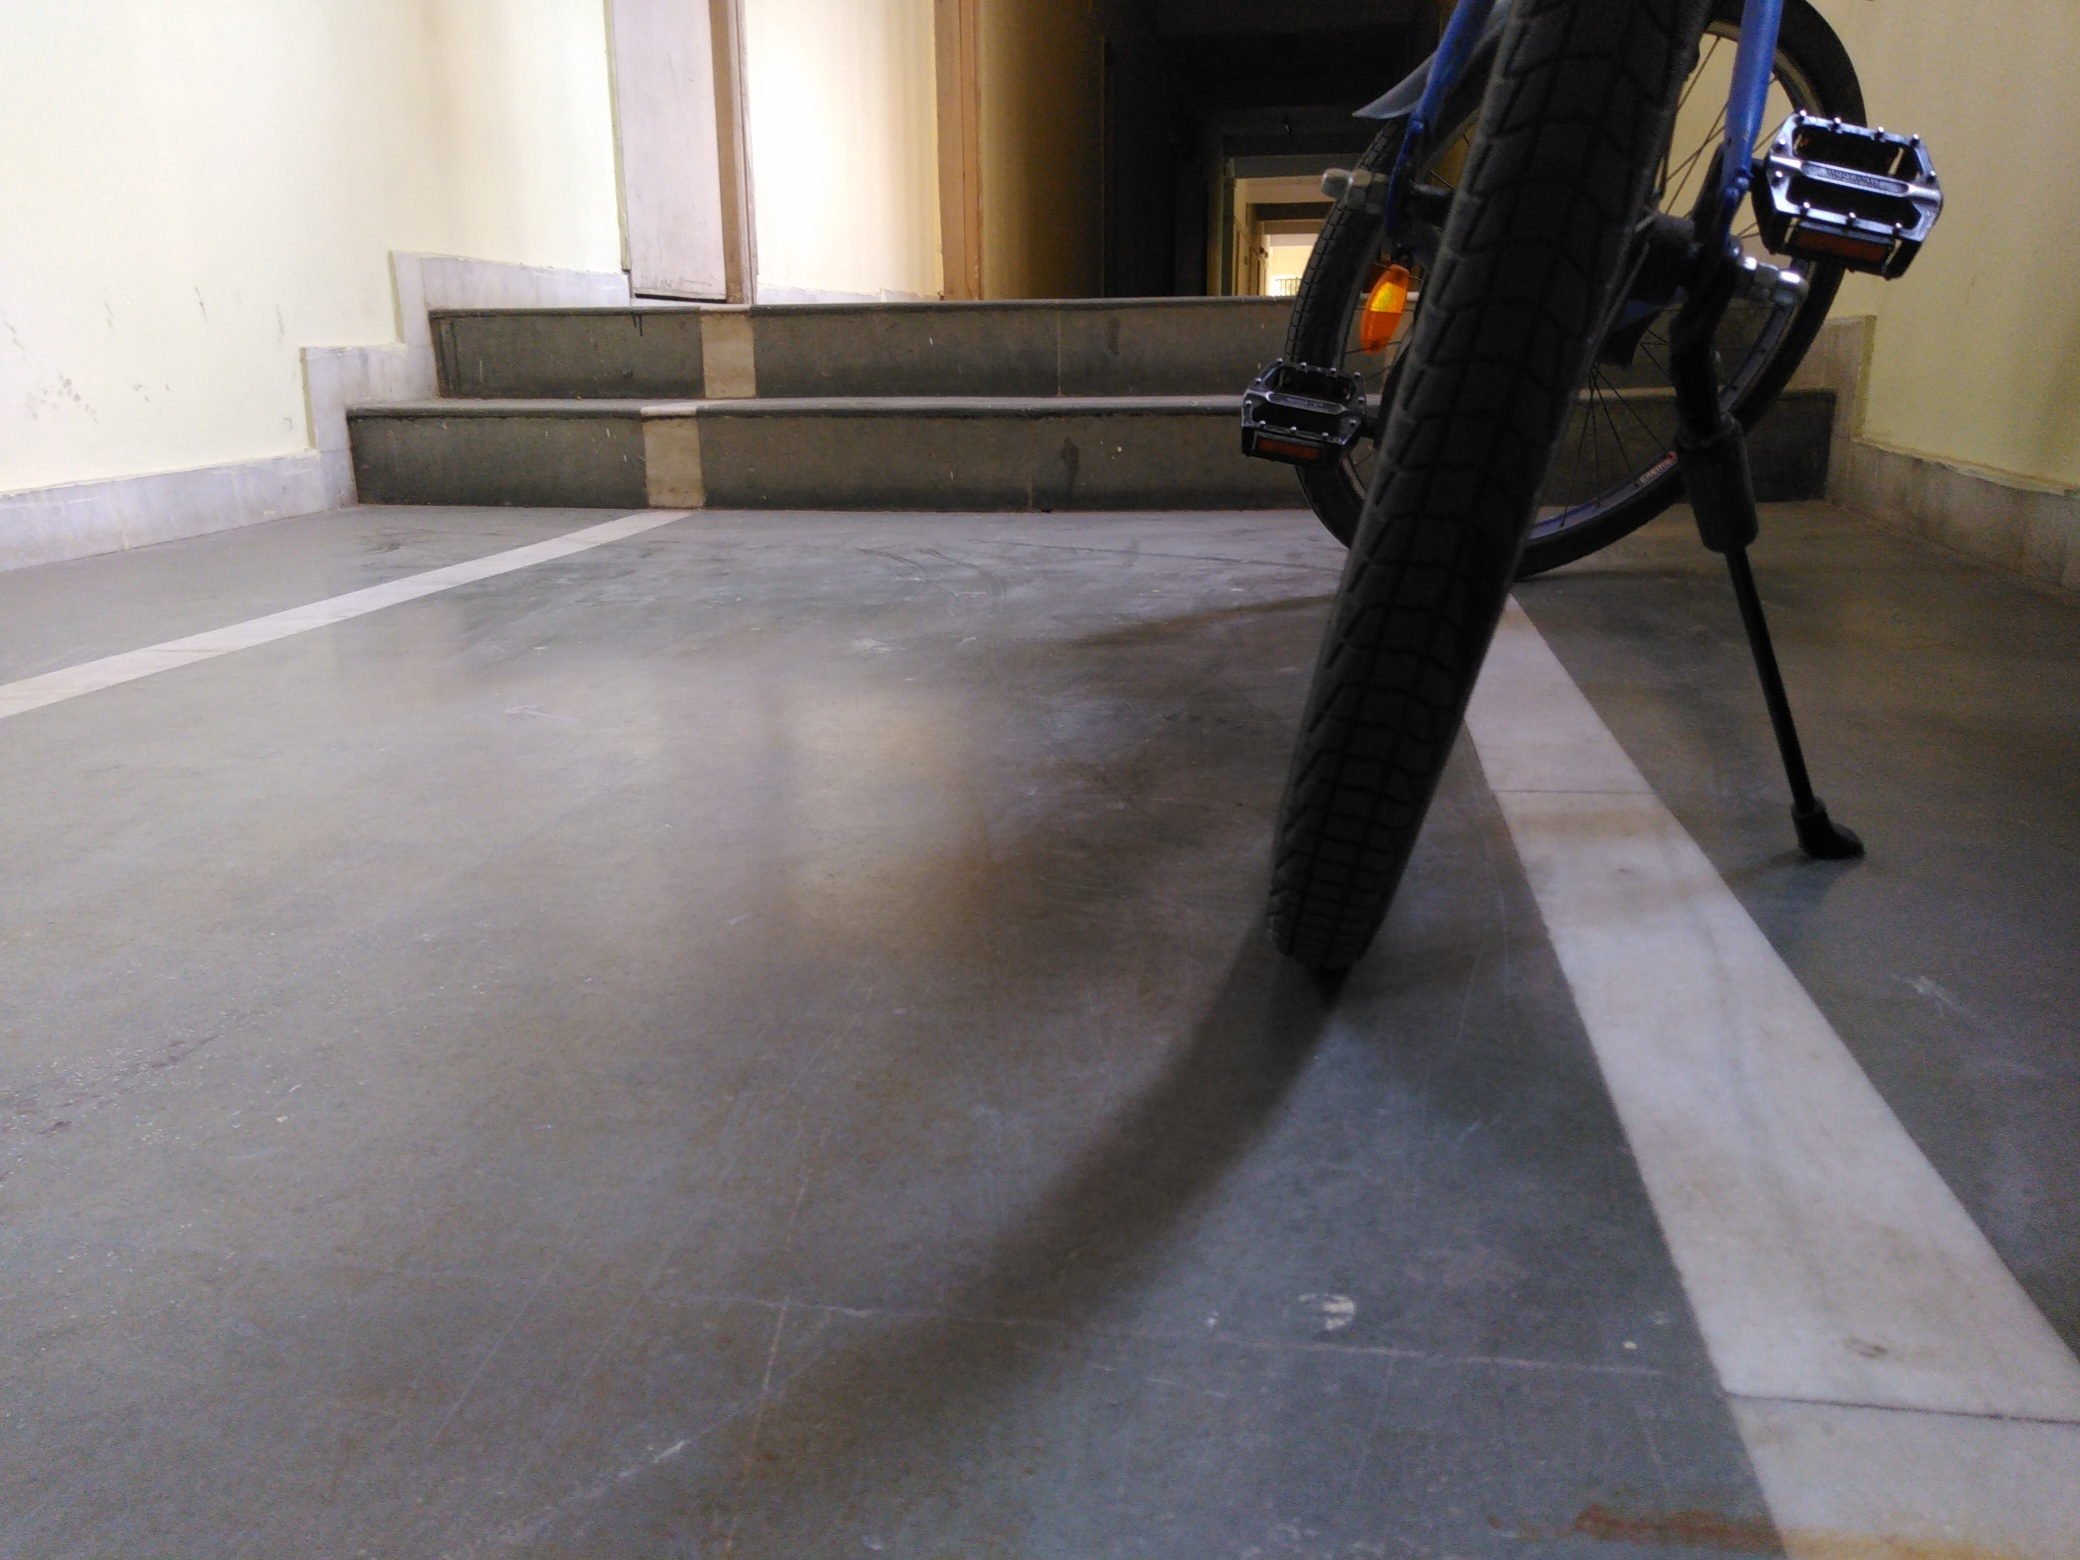stairs_up: (354, 269, 1302, 529)
